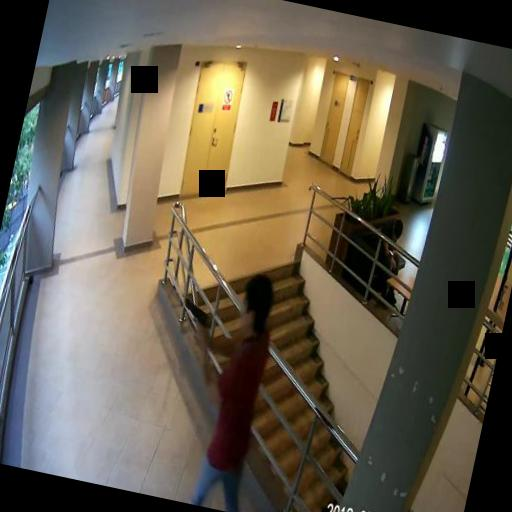Handgun: (174, 298, 210, 342)
